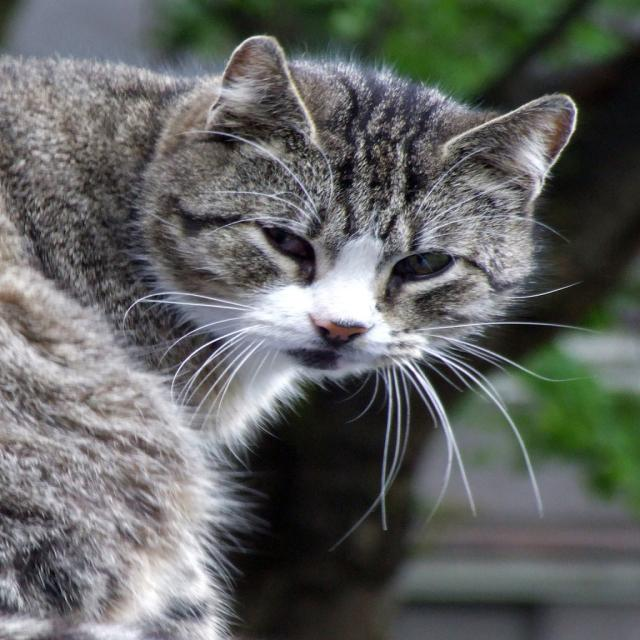left eye: (392, 248, 456, 281)
